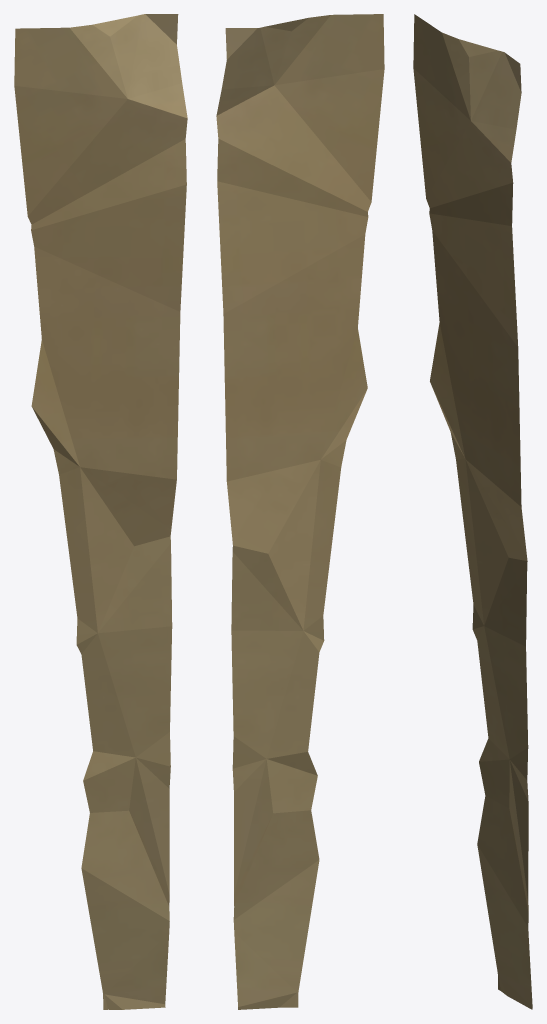
The picture shows the model from 3 angles, left to right: view 1: azimuth 30°, elevation 25°; view 2: azimuth 210°, elevation 25°; view 3: azimuth 330°, elevation 25°; orthographic projection. The views are drawn at different scales.
Size of the model in its own units: 0.1207 by 0.8374 by 0.0533.
Materials: 1 (1 with a texture image).
